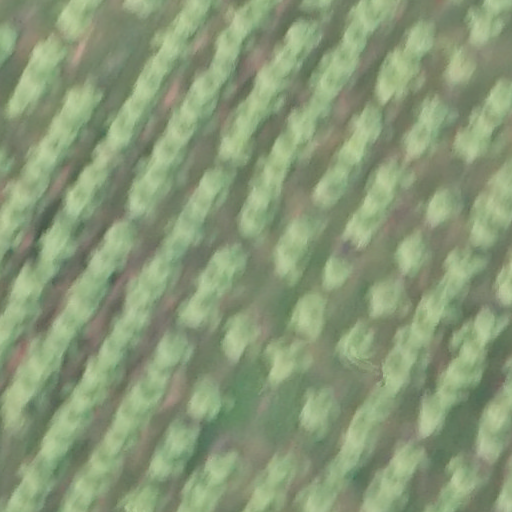eucalipto: (262, 338, 308, 386), (366, 472, 421, 511), (298, 389, 339, 438), (347, 103, 393, 145), (183, 382, 227, 424), (337, 319, 379, 363), (368, 278, 410, 321), (222, 315, 261, 361), (444, 456, 490, 494), (76, 355, 123, 392), (194, 165, 235, 207), (267, 244, 309, 285), (208, 245, 250, 285), (387, 441, 429, 481), (19, 154, 58, 196), (468, 303, 507, 345), (395, 233, 433, 276), (465, 3, 503, 46), (63, 184, 102, 225), (424, 188, 465, 227), (310, 167, 352, 205), (77, 164, 120, 201), (386, 48, 424, 89), (40, 225, 83, 261), (155, 332, 195, 370), (57, 398, 95, 438), (381, 350, 418, 391), (447, 248, 487, 285), (263, 452, 304, 488), (147, 447, 189, 482), (372, 161, 405, 205), (12, 269, 50, 307), (266, 129, 301, 170), (294, 292, 325, 338), (89, 440, 127, 477), (341, 210, 379, 247), (140, 255, 181, 289), (284, 105, 317, 147), (104, 317, 141, 354), (163, 424, 201, 460), (125, 272, 160, 311), (248, 179, 282, 219), (62, 89, 98, 126), (215, 24, 252, 60), (152, 135, 189, 171), (93, 137, 131, 172), (216, 133, 255, 167), (235, 203, 271, 239), (129, 377, 166, 412), (403, 18, 436, 57), (46, 115, 81, 151), (452, 128, 488, 163), (56, 9, 93, 43), (132, 70, 165, 108), (285, 19, 323, 52), (104, 421, 142, 454), (254, 64, 293, 96), (245, 87, 285, 118), (282, 216, 322, 247), (178, 297, 212, 333), (436, 374, 472, 408), (443, 359, 482, 390), (104, 218, 139, 252), (117, 394, 152, 428), (129, 179, 160, 217), (403, 129, 438, 162), (168, 103, 200, 139), (352, 1, 389, 32), (33, 38, 67, 71), (316, 63, 350, 96), (34, 141, 70, 172), (82, 252, 115, 285), (174, 214, 207, 247), (143, 168, 177, 200), (64, 292, 98, 324), (119, 299, 154, 330), (416, 101, 451, 132), (110, 115, 140, 151), (237, 1, 273, 31), (261, 153, 290, 190), (70, 384, 107, 413), (121, 94, 153, 127), (484, 78, 512, 115), (101, 237, 133, 269), (301, 482, 335, 512), (158, 35, 189, 67), (467, 113, 499, 144), (158, 234, 188, 267), (196, 274, 229, 304), (444, 54, 477, 84), (330, 40, 364, 69), (336, 144, 370, 173), (322, 255, 351, 289), (270, 46, 302, 76), (306, 92, 336, 124), (334, 456, 368, 484), (457, 344, 489, 373), (54, 210, 87, 238), (98, 342, 127, 373), (361, 192, 392, 220), (192, 70, 219, 100), (52, 315, 82, 342), (144, 363, 174, 390), (41, 254, 68, 282), (340, 23, 369, 49), (211, 53, 239, 79), (172, 14, 198, 41), (232, 12, 254, 41), (150, 54, 173, 79)
